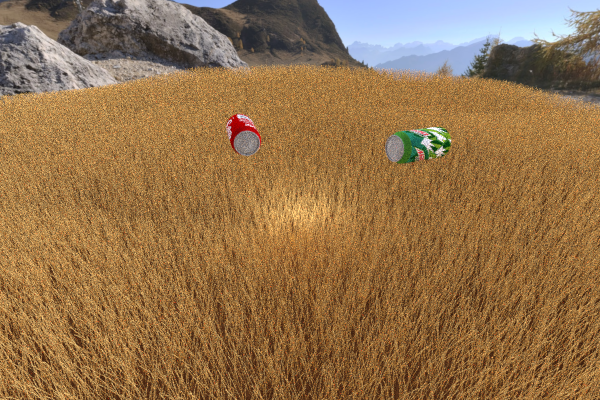Plastic Bottle: (433, 185, 600, 400), (385, 126, 451, 163), (226, 113, 261, 155)
